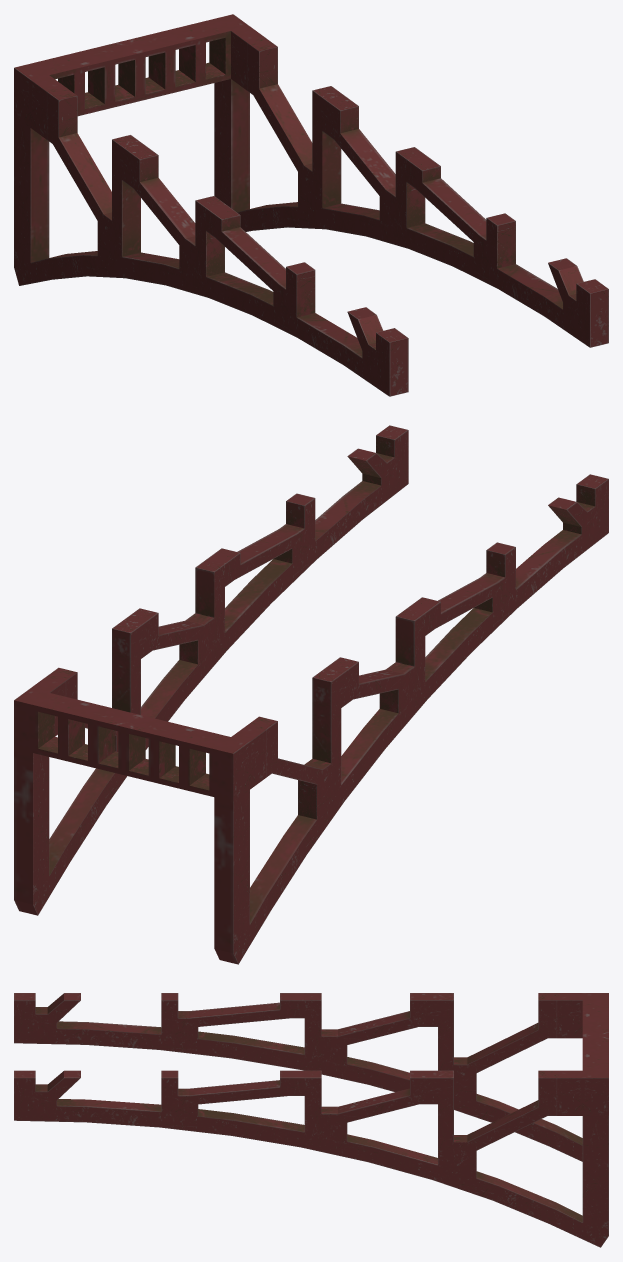
File: BridgeMetalFrame_001.fbx
The picture shows the model from 3 angles, top to bottom: view 1: azimuth 30°, elevation 25°; view 2: azimuth 150°, elevation 25°; view 3: azimuth 270°, elevation 25°; orthographic projection. The views are drawn at different scales.
Parts seen in each view (by area): view 1: BridgeMetalFrame_001; view 2: BridgeMetalFrame_001; view 3: BridgeMetalFrame_001.
Part boxes in pixels (x1,y1,x2,y2): BridgeMetalFrame_001: [14, 14, 608, 396]; BridgeMetalFrame_001: [14, 425, 608, 964]; BridgeMetalFrame_001: [14, 993, 608, 1247].
Size of the model in its own units: 2118 by 1980 by 6281.
1 material, 1 textured.
